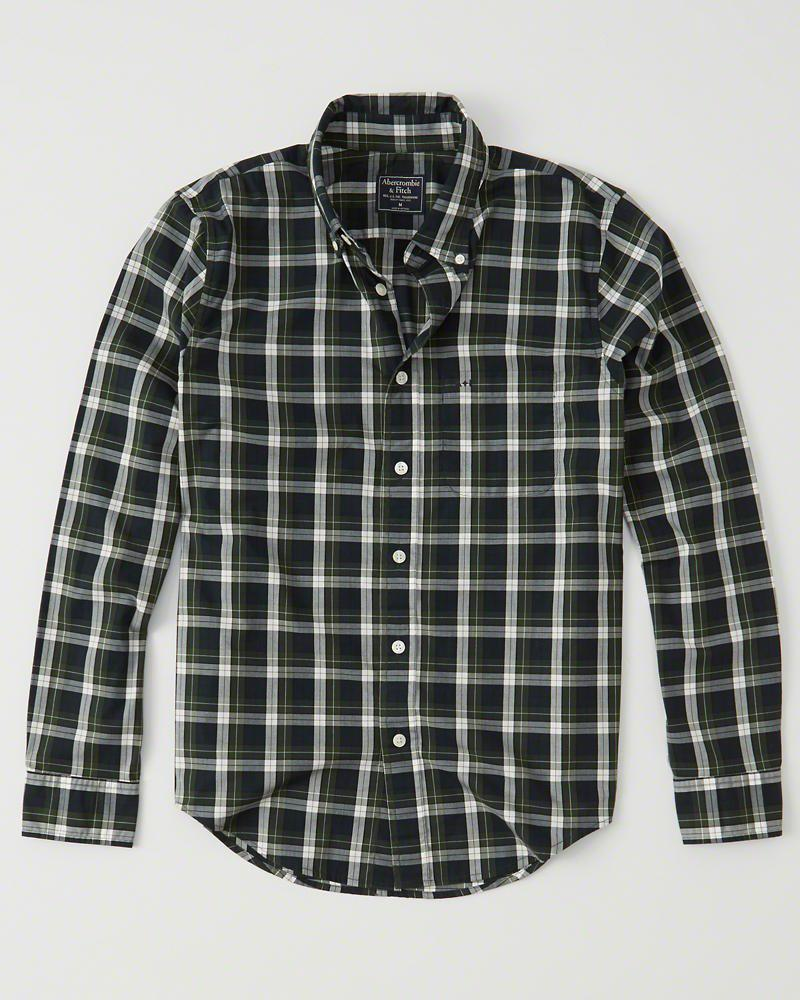teeshirt: (29, 90, 792, 892)
